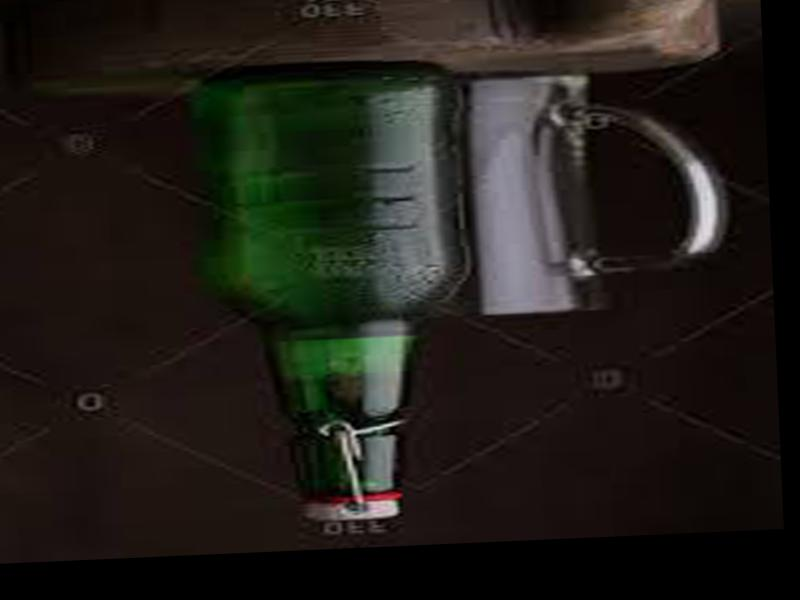Beer: (199, 58, 473, 525)
